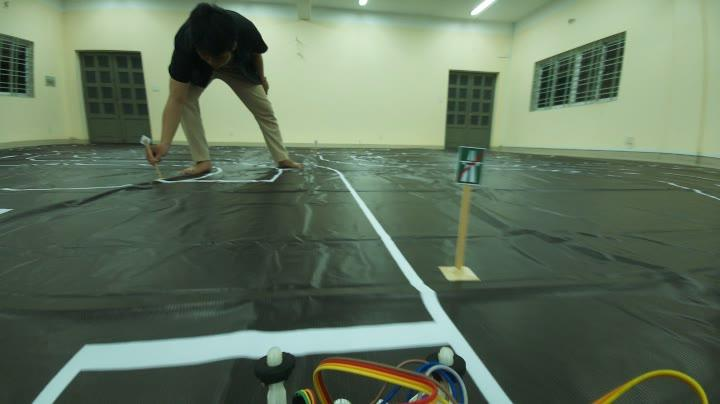highway_exit: (444, 141, 491, 190)
